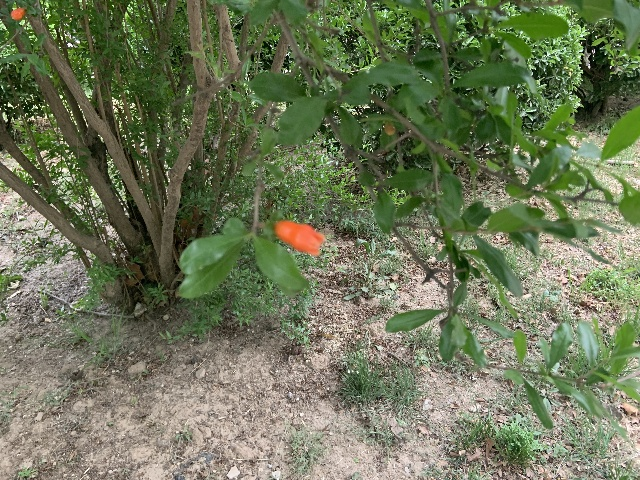bud: (10, 7, 25, 20)
flower: (273, 220, 325, 256)
